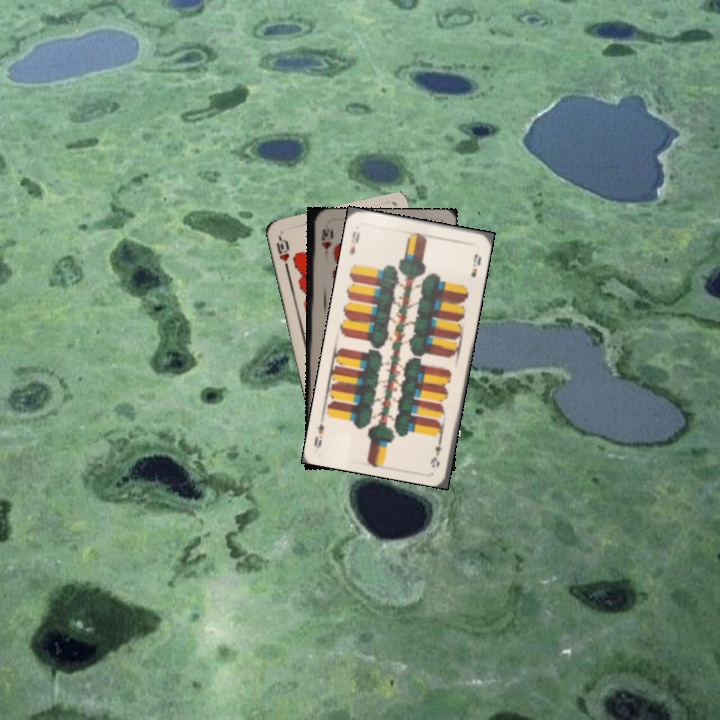E9: (427, 430, 445, 471), (345, 228, 362, 257)
H10: (272, 233, 292, 273), (317, 225, 330, 264)
